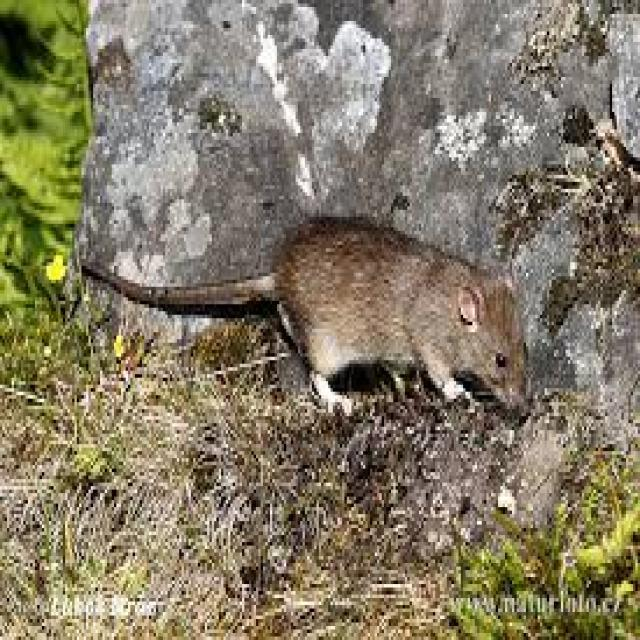Rat: (81, 194, 587, 425)
